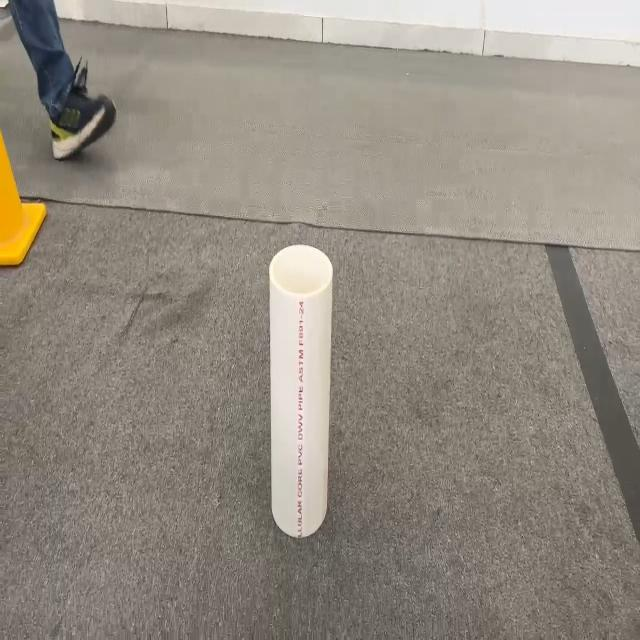coral: (268, 242, 333, 538)
